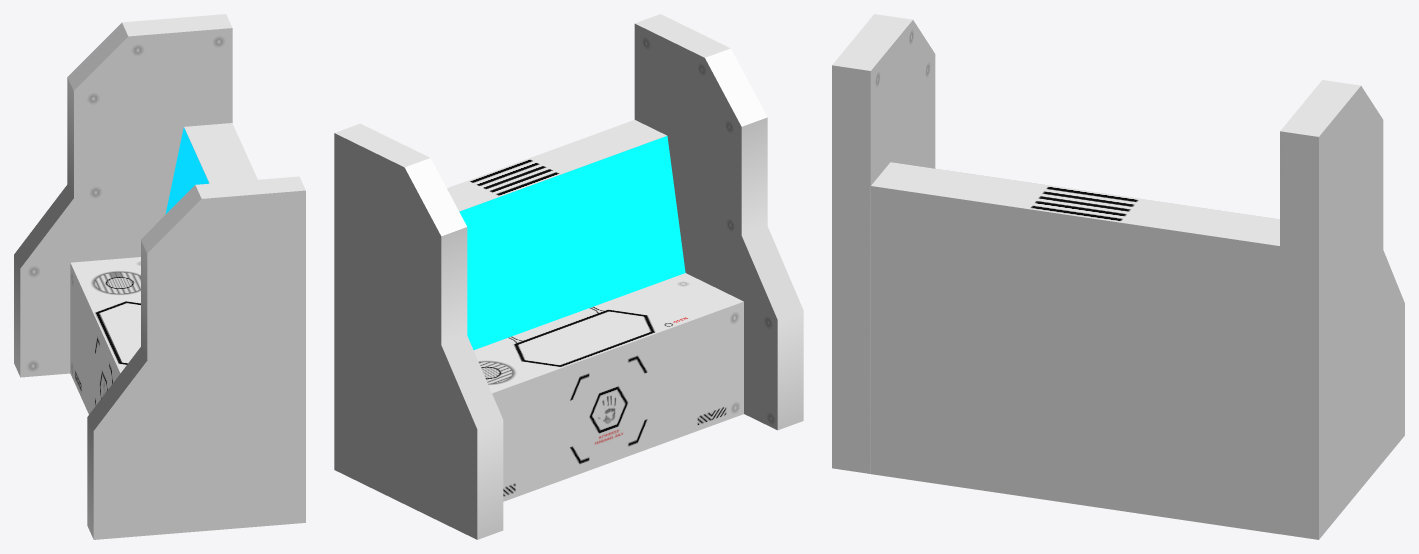
The model's file is wallscreens 3.fbx.
3 renders of one model, left to right at view 1: azimuth 30°, elevation 25°; view 2: azimuth 150°, elevation 25°; view 3: azimuth 270°, elevation 25°, orthographic. The views are drawn at different scales.
Parts seen in each view (by area): view 1: pCube46; view 2: pCube46; view 3: pCube46.
Part boxes in pixels (box(x1,y1,x2,y2)): pCube46: box(14, 14, 305, 539); pCube46: box(334, 14, 803, 539); pCube46: box(832, 14, 1404, 539).
Size of the model in its own units: 1.53 by 1.63 by 2.1.
Materials: 2 (1 with a texture image).
